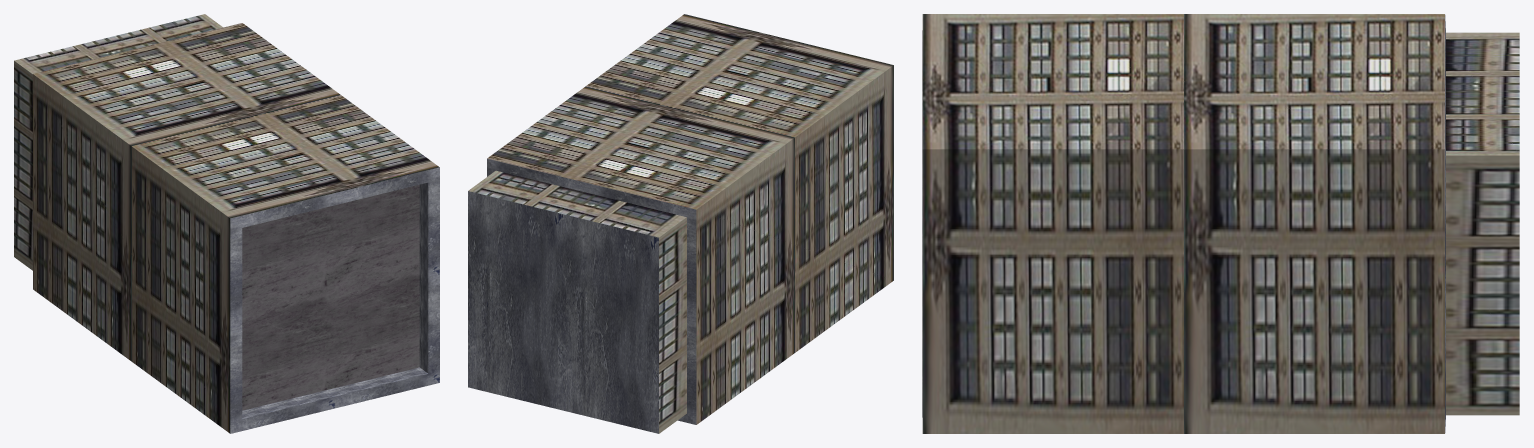
File: urbanflats1Bb_wtf.obj
The picture shows the model from 3 angles, left to right: view 1: azimuth 30°, elevation 25°; view 2: azimuth 150°, elevation 25°; view 3: azimuth 270°, elevation 25°; orthographic projection. The views are drawn at different scales.
Parts seen in each view (by area): view 1: group5, group4, group3; view 2: group5, group3; view 3: group5, group3.
Part boxes in pixels (left/top/right/bottom): group5: left=14, top=14, right=439, bottom=433; group4: left=242, top=184, right=419, bottom=410; group3: left=230, top=167, right=439, bottom=433; group5: left=468, top=14, right=893, bottom=433; group3: left=468, top=158, right=696, bottom=433; group5: left=922, top=14, right=1519, bottom=433; group3: left=922, top=15, right=1445, bottom=432.
Bounding box in the file's own units: 354 × 347 × 660.
